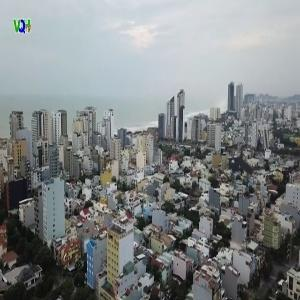drone: (205, 120, 293, 208)
